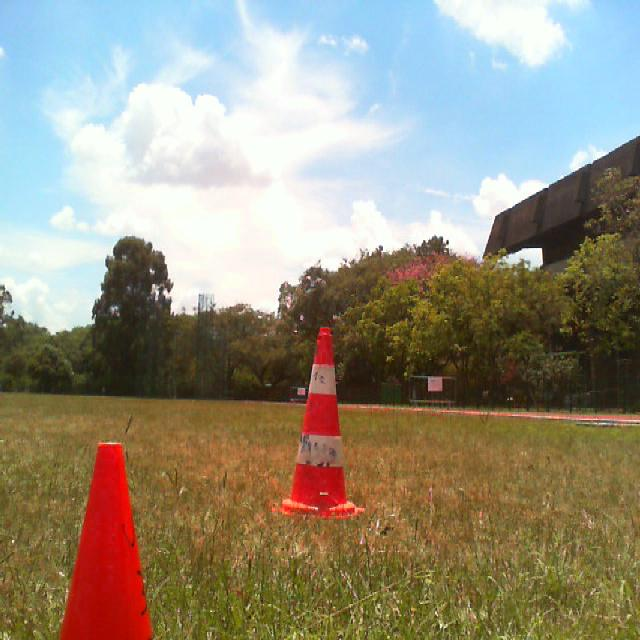cone: (58, 444, 155, 640), (270, 327, 366, 516)
